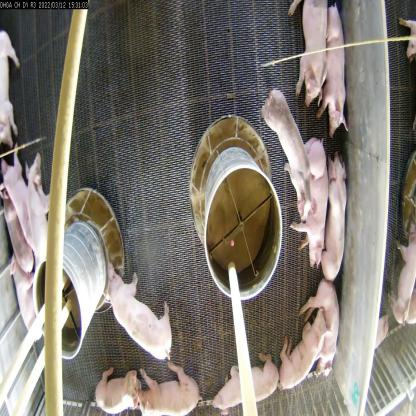Pig: (2, 182, 44, 346), (257, 92, 306, 223), (102, 275, 176, 358), (210, 348, 284, 415), (283, 0, 330, 104), (316, 140, 350, 277), (311, 1, 347, 127), (13, 155, 53, 262), (295, 140, 325, 272), (283, 325, 327, 404), (142, 363, 196, 416), (319, 271, 343, 380), (99, 371, 146, 415)
